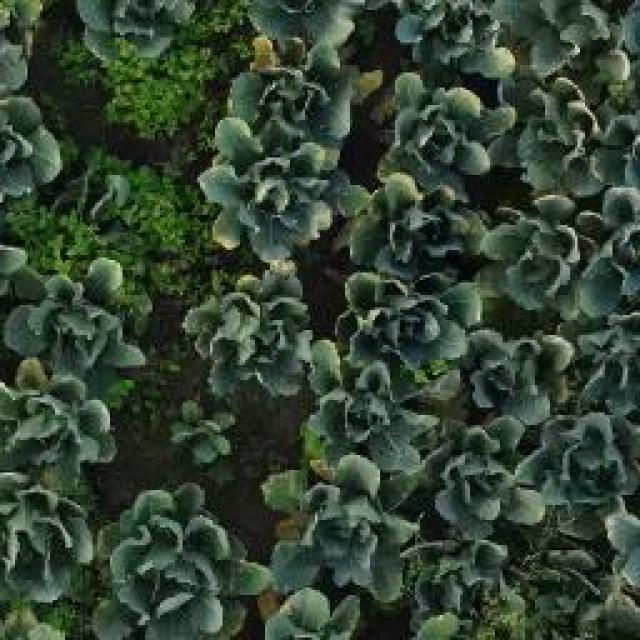cabbage: (97, 482, 255, 640), (180, 260, 314, 405), (7, 257, 151, 383), (271, 453, 396, 598), (201, 126, 340, 255), (300, 340, 437, 468), (334, 268, 472, 388), (225, 35, 362, 151), (375, 68, 511, 184), (0, 358, 118, 474), (436, 412, 548, 530), (394, 524, 511, 627), (536, 401, 640, 514), (0, 482, 92, 606), (469, 317, 578, 418), (365, 188, 475, 282), (526, 0, 640, 83), (494, 217, 594, 310), (394, 0, 516, 76), (47, 158, 140, 245), (531, 99, 612, 187)
